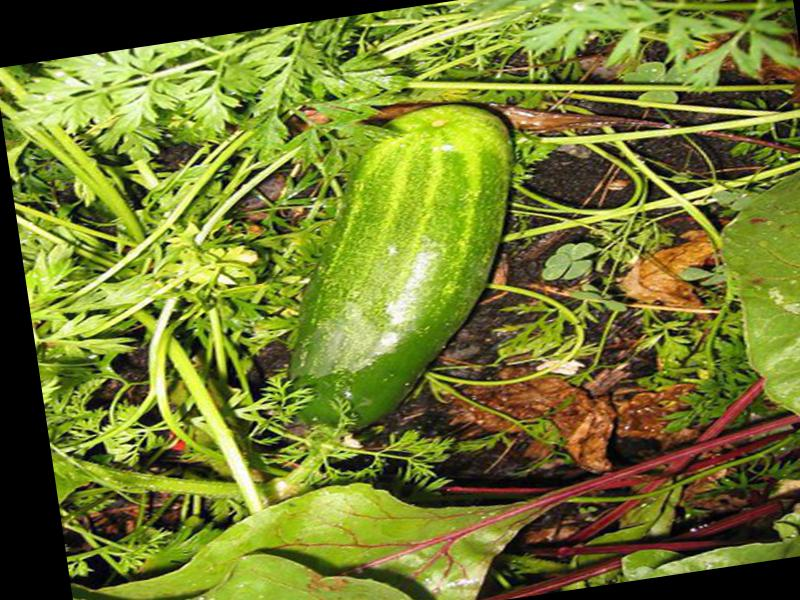Cucumber: (241, 100, 552, 441)
